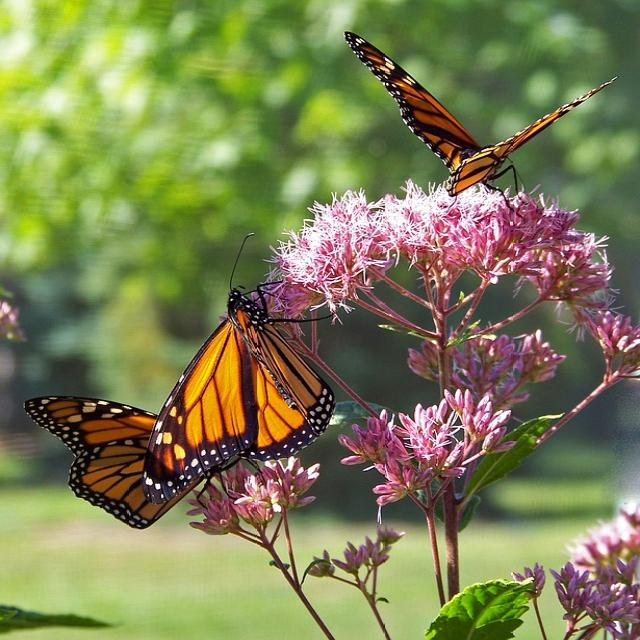butterfly: (347, 31, 617, 196), (143, 290, 334, 502), (25, 396, 200, 528)
